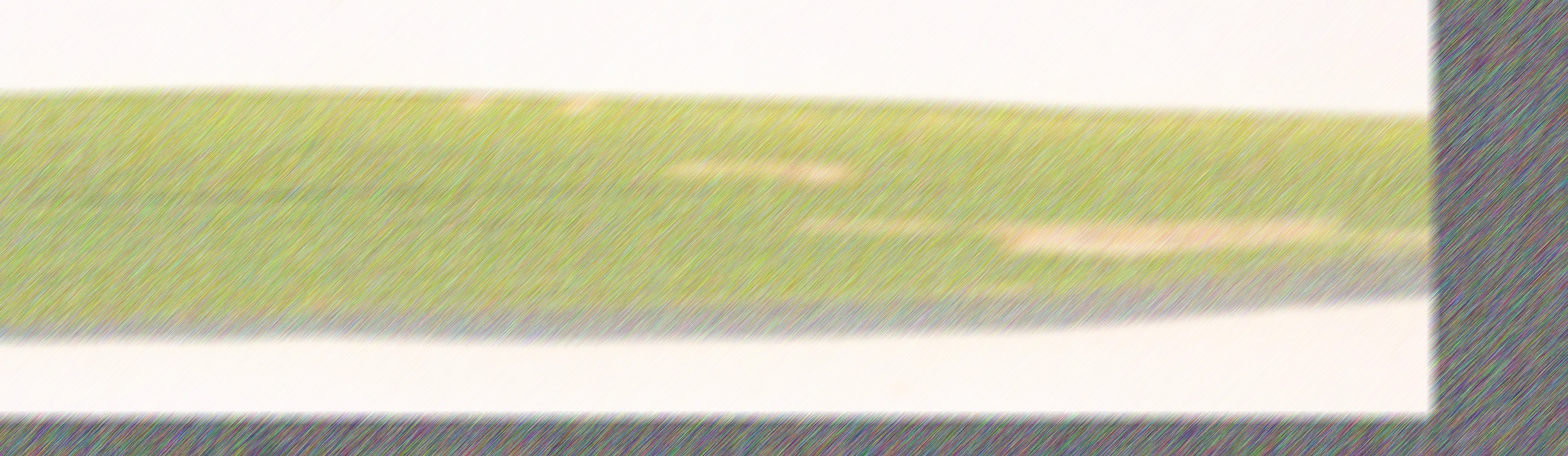Leaf_Blast: (306, 72, 1388, 181), (760, 189, 1425, 299)
